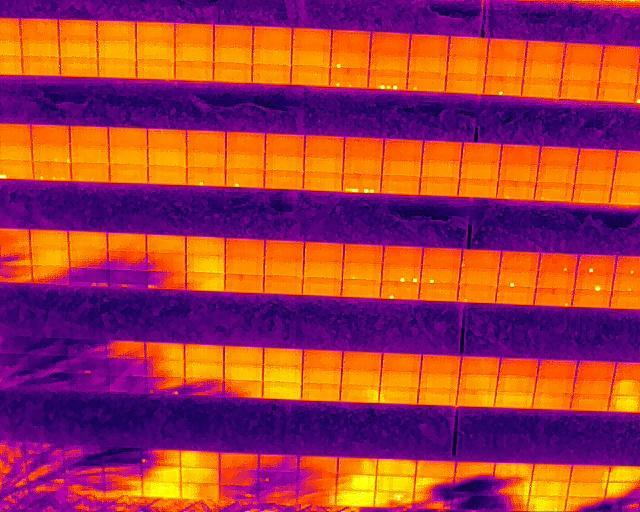Cell: (225, 169, 265, 188), (484, 76, 522, 96), (187, 167, 226, 186), (407, 73, 446, 92), (577, 255, 615, 274), (539, 253, 578, 271), (498, 269, 537, 287), (462, 250, 500, 268), (458, 284, 496, 302), (535, 289, 573, 307), (331, 50, 369, 68), (343, 263, 382, 280), (380, 282, 419, 299), (421, 268, 459, 285), (575, 274, 613, 291)
Cell-Multi: (330, 68, 368, 87), (146, 377, 186, 395), (32, 144, 70, 162), (33, 162, 71, 180), (369, 71, 407, 89), (381, 266, 420, 282)
No-Anomaly: (20, 18, 59, 41), (305, 136, 345, 158), (332, 31, 371, 53), (265, 134, 305, 155), (96, 21, 136, 42), (384, 246, 422, 268), (344, 138, 383, 159), (253, 27, 292, 48), (293, 29, 332, 50), (371, 32, 410, 53), (22, 55, 61, 76), (252, 64, 291, 85), (446, 74, 485, 95), (569, 464, 612, 483), (226, 132, 266, 152), (148, 165, 188, 185), (303, 349, 343, 369), (562, 61, 602, 81), (291, 65, 331, 85), (108, 128, 147, 148), (384, 140, 423, 160), (422, 141, 461, 161), (462, 142, 501, 162), (539, 147, 578, 167), (422, 248, 461, 268), (186, 254, 225, 274), (175, 24, 214, 44), (215, 26, 254, 46), (449, 37, 488, 57), (175, 61, 214, 81), (214, 63, 253, 83), (599, 63, 638, 83), (522, 78, 561, 98), (536, 359, 577, 378), (488, 38, 525, 59), (147, 130, 187, 149), (303, 172, 343, 191), (535, 182, 573, 202), (572, 184, 612, 203), (146, 235, 186, 254), (59, 20, 97, 40), (136, 23, 174, 43), (184, 344, 224, 363), (263, 348, 303, 367), (382, 352, 422, 371), (411, 35, 449, 55), (338, 457, 378, 476), (532, 462, 572, 481), (20, 39, 60, 58), (526, 41, 566, 60), (60, 57, 98, 77), (560, 80, 598, 100), (31, 124, 70, 143), (70, 126, 109, 145), (187, 131, 226, 150), (70, 145, 109, 164), (501, 145, 540, 164), (578, 148, 617, 167), (187, 150, 226, 169), (71, 163, 110, 182), (109, 164, 148, 183), (575, 167, 614, 186), (265, 170, 304, 189), (381, 176, 420, 195), (420, 177, 459, 196), (459, 179, 498, 198), (497, 180, 536, 199), (69, 231, 108, 250), (225, 238, 264, 257), (265, 240, 304, 259), (305, 243, 344, 262), (186, 273, 225, 292), (224, 346, 263, 365), (421, 355, 460, 374), (59, 39, 98, 58), (136, 41, 175, 60), (564, 44, 603, 63), (370, 53, 409, 72), (409, 54, 448, 73), (486, 58, 525, 77), (98, 59, 137, 78), (136, 60, 175, 79), (524, 60, 563, 79), (597, 83, 636, 102), (29, 230, 67, 249), (602, 46, 640, 65), (448, 56, 486, 75), (144, 342, 184, 360), (342, 352, 382, 370), (460, 356, 500, 374), (499, 358, 539, 376), (576, 360, 616, 378), (529, 481, 571, 498), (148, 148, 187, 166), (226, 152, 265, 170), (537, 165, 576, 183), (108, 233, 147, 251), (186, 237, 225, 255), (344, 245, 383, 263), (225, 257, 264, 275), (264, 258, 303, 276), (225, 275, 264, 293), (264, 276, 303, 294), (302, 278, 341, 296), (342, 280, 381, 298), (496, 287, 535, 305), (263, 381, 302, 399), (302, 383, 341, 401), (340, 385, 379, 403), (376, 459, 415, 477), (175, 44, 214, 62), (253, 47, 292, 65), (416, 461, 457, 478), (567, 481, 608, 498), (501, 251, 539, 269), (495, 463, 533, 481), (214, 46, 252, 64), (421, 160, 461, 177), (460, 162, 500, 179), (341, 369, 381, 386), (458, 374, 498, 391), (534, 377, 574, 394), (573, 378, 613, 395), (417, 388, 457, 405), (533, 392, 573, 409), (571, 394, 611, 411), (180, 451, 220, 468), (292, 49, 332, 66), (109, 147, 148, 164), (265, 155, 304, 172), (304, 156, 343, 173), (383, 159, 422, 176), (499, 164, 538, 181), (303, 261, 342, 278), (460, 268, 499, 285), (536, 272, 575, 289), (419, 284, 458, 301), (185, 362, 224, 379), (224, 364, 263, 381), (420, 373, 459, 390), (219, 453, 258, 470), (181, 467, 220, 484), (142, 481, 181, 498), (181, 483, 220, 500), (97, 42, 136, 59), (497, 376, 538, 392), (495, 391, 536, 407), (343, 158, 383, 174), (302, 368, 342, 384), (380, 371, 420, 387), (456, 390, 496, 406), (336, 474, 376, 490), (572, 292, 611, 308), (263, 366, 302, 382), (379, 387, 418, 403), (376, 476, 415, 492), (336, 490, 375, 506), (31, 249, 69, 265), (528, 497, 568, 512)
Shadowing: (68, 357, 110, 379), (67, 338, 110, 359), (26, 337, 68, 358), (454, 458, 497, 478), (27, 356, 69, 376), (107, 358, 147, 379), (454, 476, 495, 495), (108, 270, 148, 289), (147, 270, 187, 289), (492, 477, 532, 496), (107, 340, 146, 359), (102, 446, 141, 465), (66, 480, 105, 499), (140, 448, 181, 466), (69, 268, 109, 286), (146, 360, 186, 378), (185, 379, 225, 397), (259, 454, 299, 472), (109, 251, 148, 269), (147, 253, 186, 271), (224, 380, 263, 398), (299, 456, 338, 474), (259, 486, 298, 504), (69, 250, 107, 268), (32, 266, 70, 284), (65, 464, 105, 481), (141, 465, 181, 482), (219, 484, 259, 501), (374, 491, 414, 508), (491, 495, 531, 512), (109, 377, 148, 394), (104, 465, 143, 482), (298, 473, 337, 490), (415, 477, 456, 493), (105, 480, 143, 497), (219, 469, 259, 485), (259, 471, 299, 487), (298, 489, 337, 505), (565, 497, 605, 512)
Unclassified: (341, 173, 381, 192)
